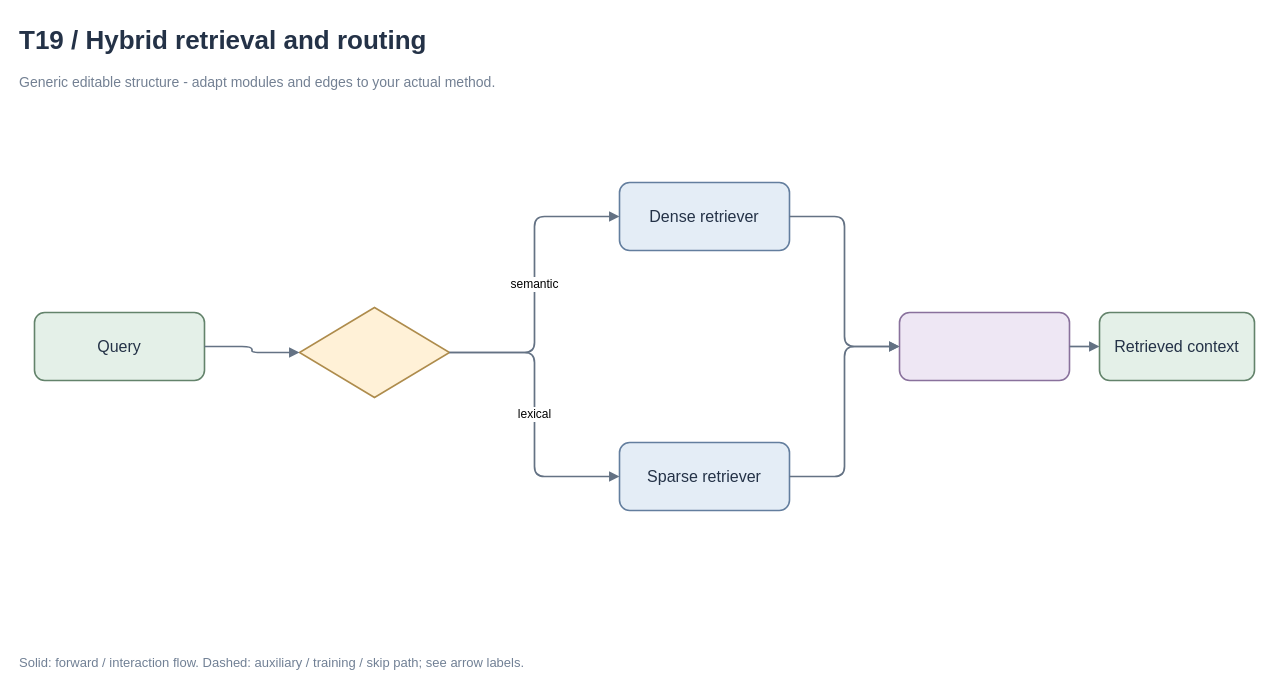
The diagram is 1272 pixels wide and 695 high, and some of its shapes have lost their labels. Here are the shapes that lost their labels. From the top down, the box of each, then its label:
(298, 306, 450, 398): Route?
(898, 311, 1070, 381): Merge + rerank
